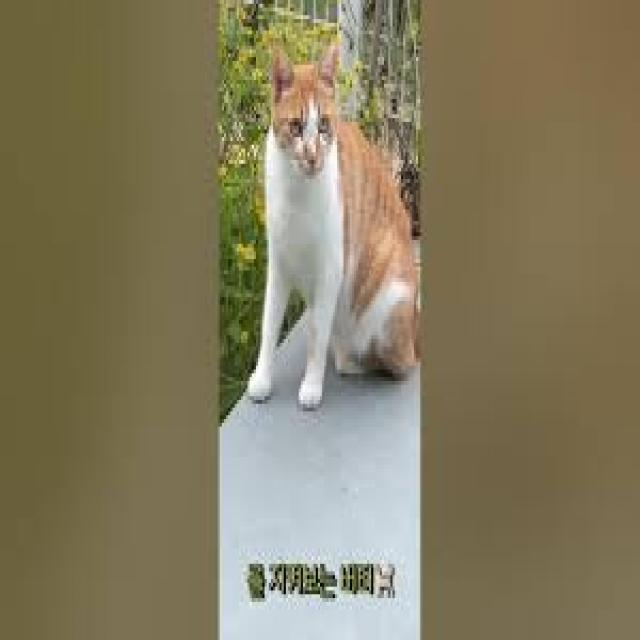cat: (244, 32, 422, 416)
